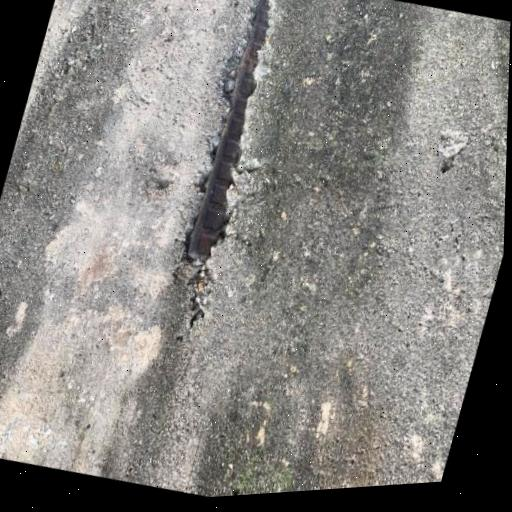exposed_rebar: (188, 0, 269, 260)
